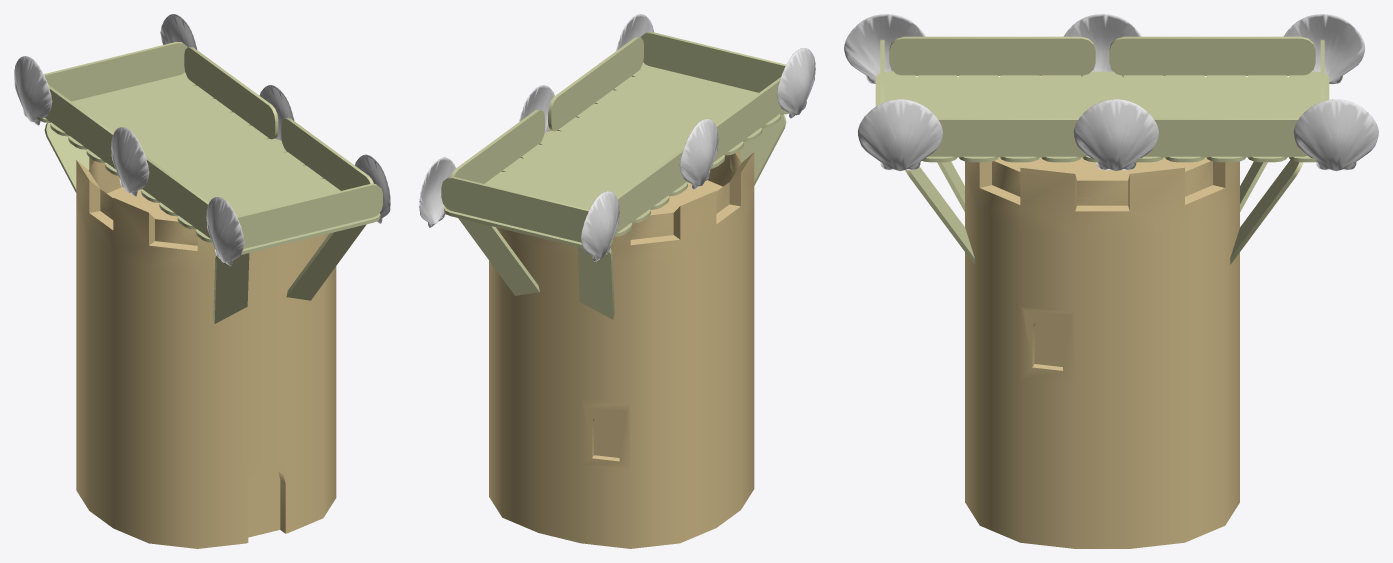
File: BaseTowerV2_Base.fbx
The picture shows the model from 3 angles, left to right: view 1: azimuth 30°, elevation 25°; view 2: azimuth 150°, elevation 25°; view 3: azimuth 270°, elevation 25°; orthographic projection. The views are drawn at different scales.
Visible parts, largest first — view 1: Cube.004, Plane.037, Plane.036, Plane.038, Plane.039, Plane.040, Plane.041, Plane.017, Plane.034, Plane.029, Plane.031, Plane.030 (+14 smaller); view 2: Cube.004, Plane.036, Plane.037, Plane.039, Plane.038, Plane.040, Plane.041, Plane.023, Plane.031, Plane.028, Plane.029, Plane.030 (+14 smaller); view 3: Cube.004, Plane.040, Plane.041, Plane.038, Plane.039, shell_upper.006, shell_upper.005, shell_upper.004, shell_upper.003, shell_upper.002, Plane.025, Plane.032 (+12 smaller).
Part boxes in pixels (bbox=[...]): Cube.004: bbox=[76, 157, 336, 548]; Plane.037: bbox=[237, 184, 382, 248]; Plane.036: bbox=[44, 42, 187, 101]; Plane.038: bbox=[184, 47, 278, 139]; Plane.039: bbox=[281, 118, 373, 190]; Plane.040: bbox=[45, 85, 115, 169]; Plane.041: bbox=[141, 156, 210, 238]; Plane.017: bbox=[286, 224, 366, 300]; Plane.034: bbox=[50, 85, 214, 136]; Plane.029: bbox=[141, 152, 304, 202]; Plane.031: bbox=[105, 125, 268, 175]; Plane.030: bbox=[140, 138, 286, 189]; Cube.004: bbox=[489, 129, 754, 548]; Plane.036: bbox=[441, 176, 589, 242]; Plane.037: bbox=[640, 32, 785, 92]; Plane.039: bbox=[548, 37, 643, 131]; Plane.038: bbox=[451, 109, 545, 183]; Plane.040: bbox=[614, 148, 687, 235]; Plane.041: bbox=[714, 77, 784, 161]; Plane.023: bbox=[458, 218, 539, 295]; Plane.031: bbox=[521, 144, 687, 196]; Plane.028: bbox=[614, 76, 780, 128]; Plane.029: bbox=[557, 117, 724, 168]; Plane.030: bbox=[539, 131, 688, 182]; Cube.004: bbox=[965, 76, 1239, 548]; Plane.040: bbox=[1109, 36, 1315, 75]; Plane.041: bbox=[889, 36, 1095, 75]; Plane.038: bbox=[1144, 118, 1307, 157]; Plane.039: bbox=[928, 118, 1087, 157]; shell_upper.006: bbox=[858, 99, 942, 171]; shell_upper.005: bbox=[1293, 99, 1378, 171]; shell_upper.004: bbox=[1073, 99, 1158, 171]; shell_upper.003: bbox=[1283, 14, 1364, 84]; shell_upper.002: bbox=[844, 14, 925, 83]; Plane.025: bbox=[999, 75, 1040, 162]; Plane.032: bbox=[1164, 75, 1205, 162].
Bounding box in the file's own units: 160 × 279 × 311.
